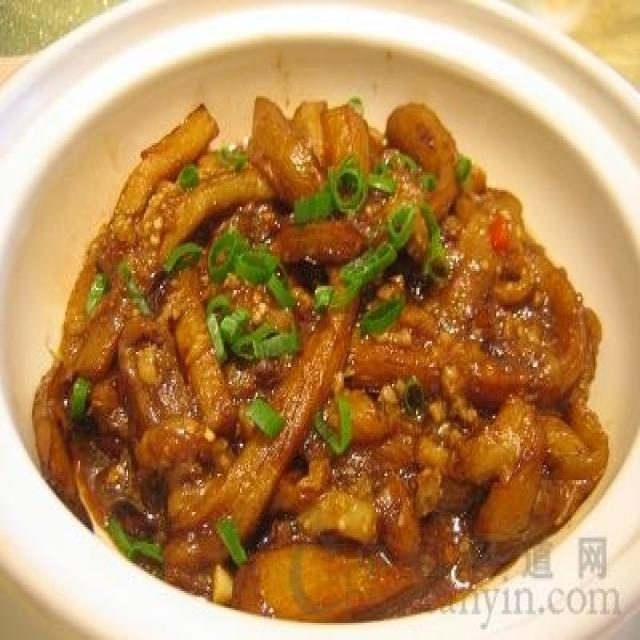鸡蛋料理: (18, 28, 627, 625)
